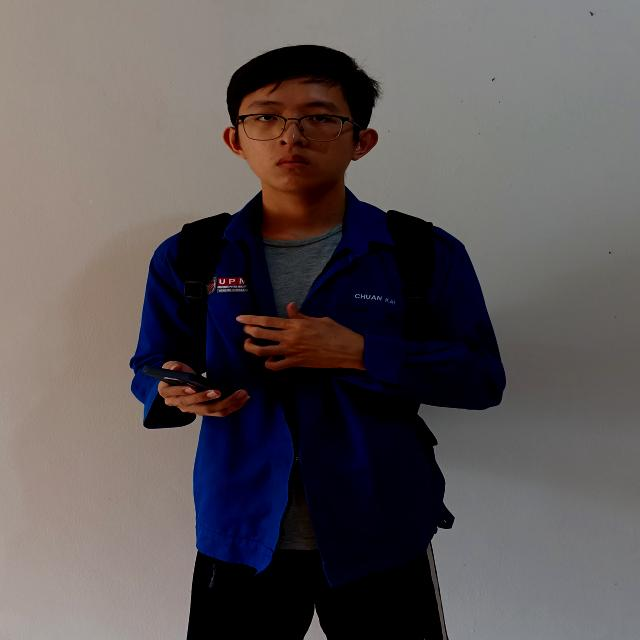person_with_labcoat: (130, 45, 505, 640)
